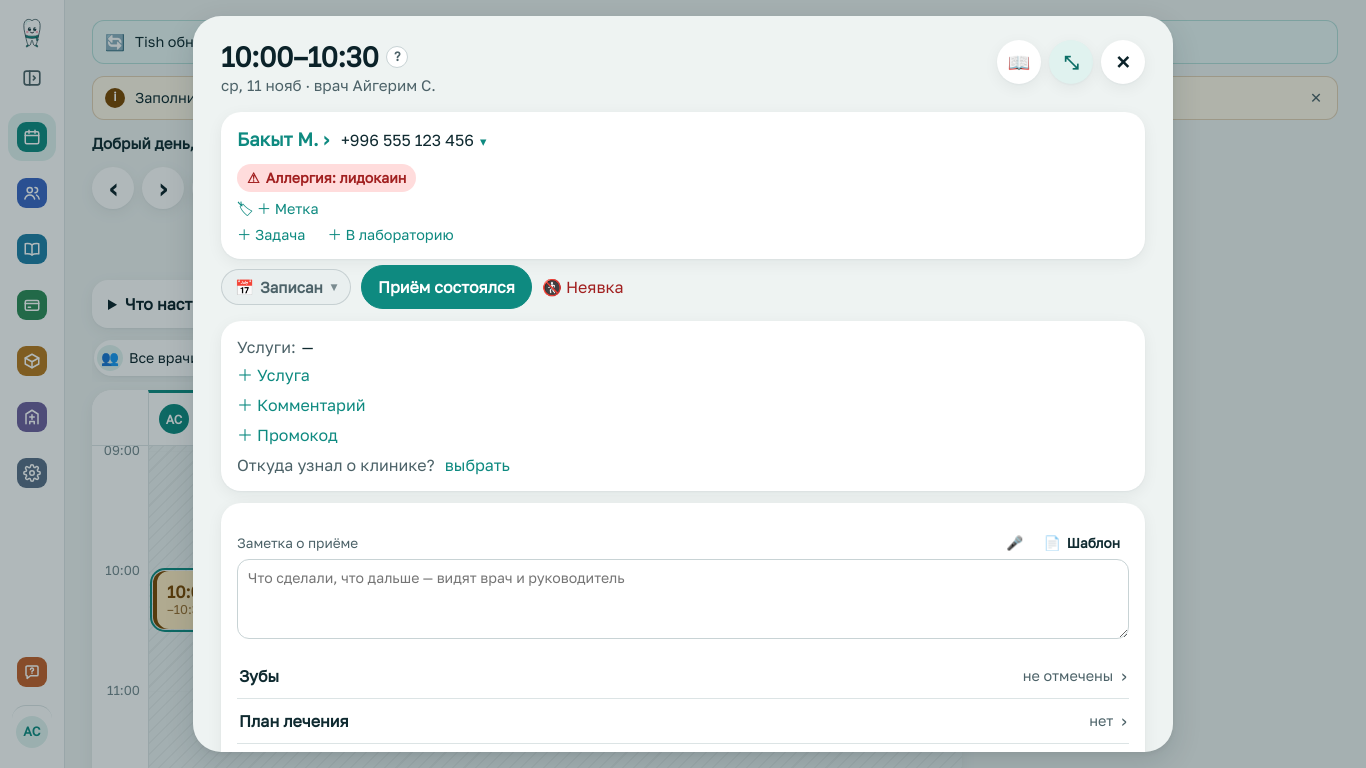
it: карточка приёма: важное из анкеты — жёлтой пилюлей у пациента; нажать — весь список и «Анкета в медкарте ›»
The image size is (1366, 768).
Earlier steps of the test are not shown.
(page scrolled)
Expected: the element named "Важно перед лечением" is shown, top-left (221, 112), bottom-right (1145, 259)
Click the button with aria-label "Важно перед лечением" at x=327, y=178, box top-left (237, 164), bottom-right (416, 192)
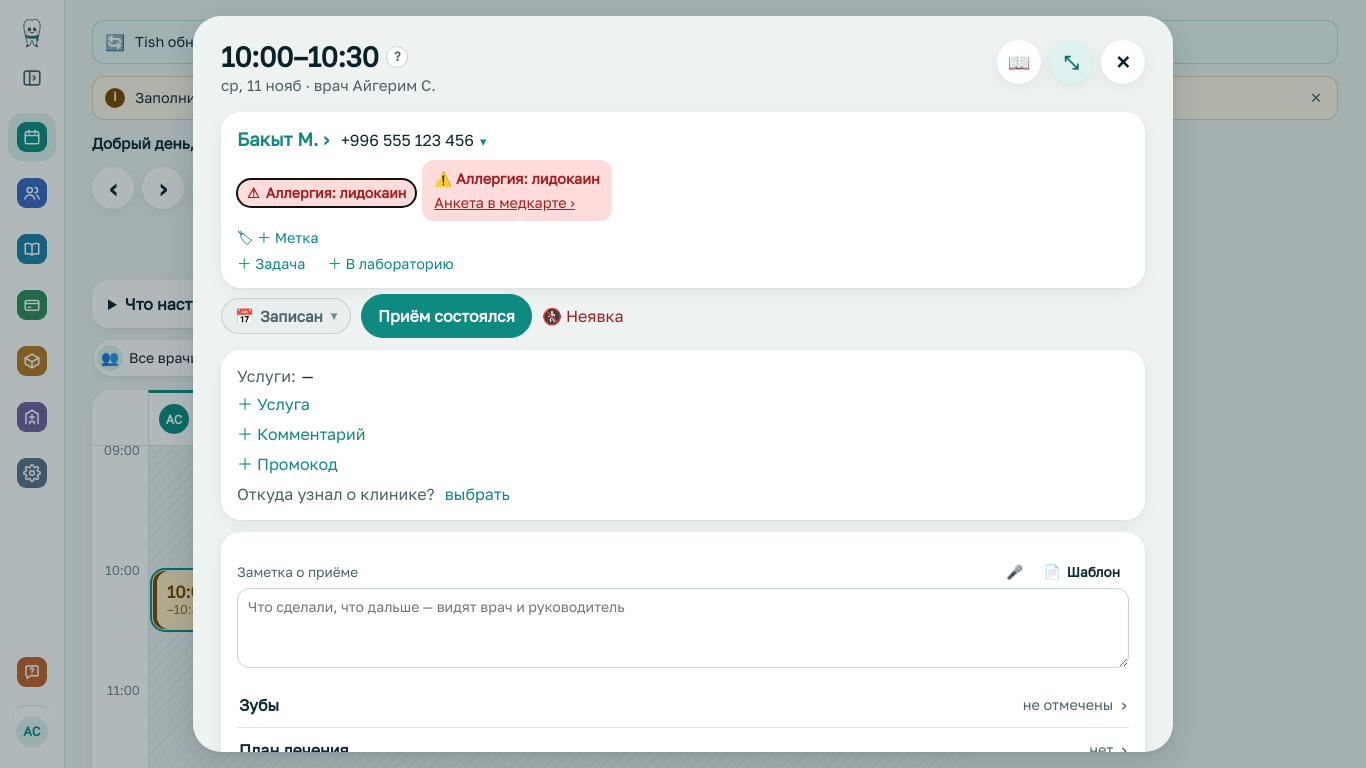
Result: the button with aria-label "Важно перед лечением" is expanded at top-left (237, 179), bottom-right (416, 207)
Result: the element named "Важно перед лечением" shows "Аллергия: лидокаин" at top-left (434, 170), bottom-right (600, 187)
Click the button "Анкета в медкарте ›" at x=505, y=202, box top-left (434, 192), bottom-right (575, 213)
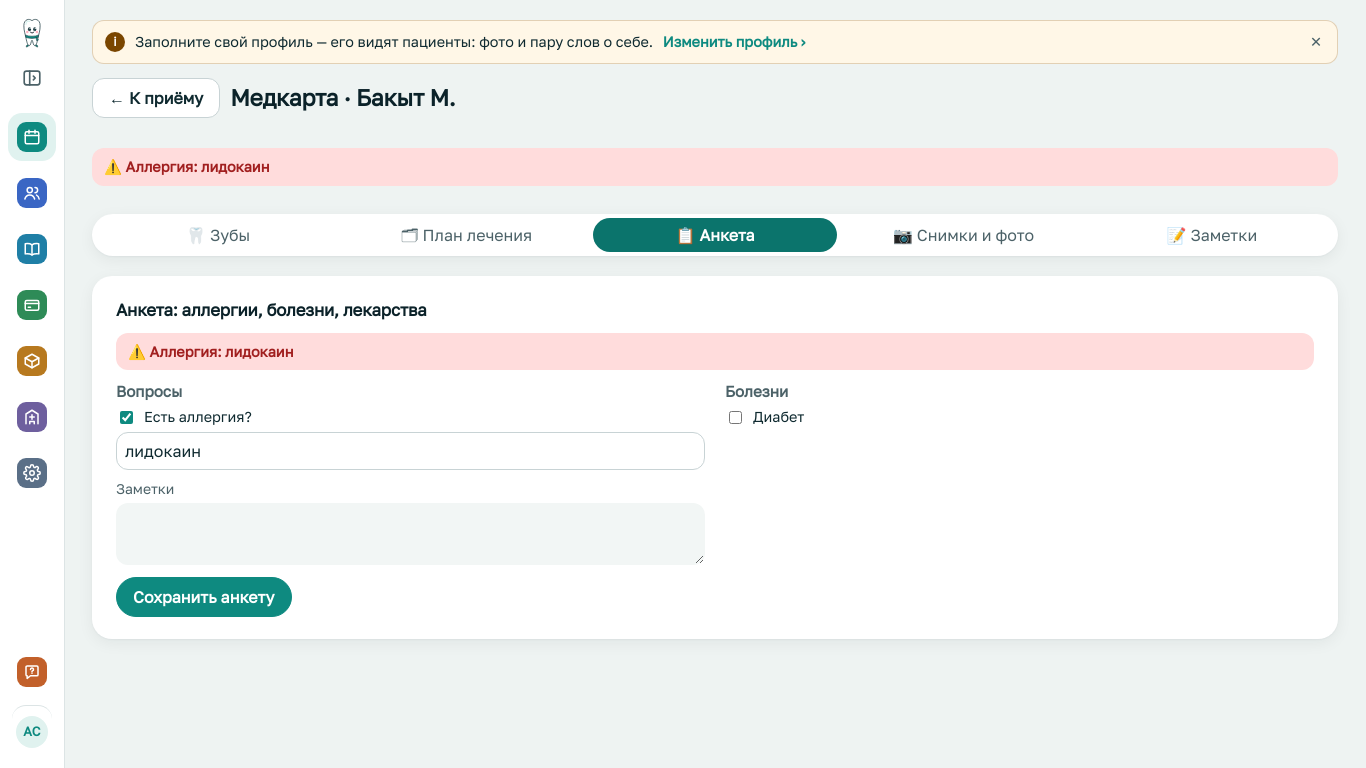
Result: the form named "Анкета пациента" is shown at top-left (116, 333), bottom-right (1314, 617)
